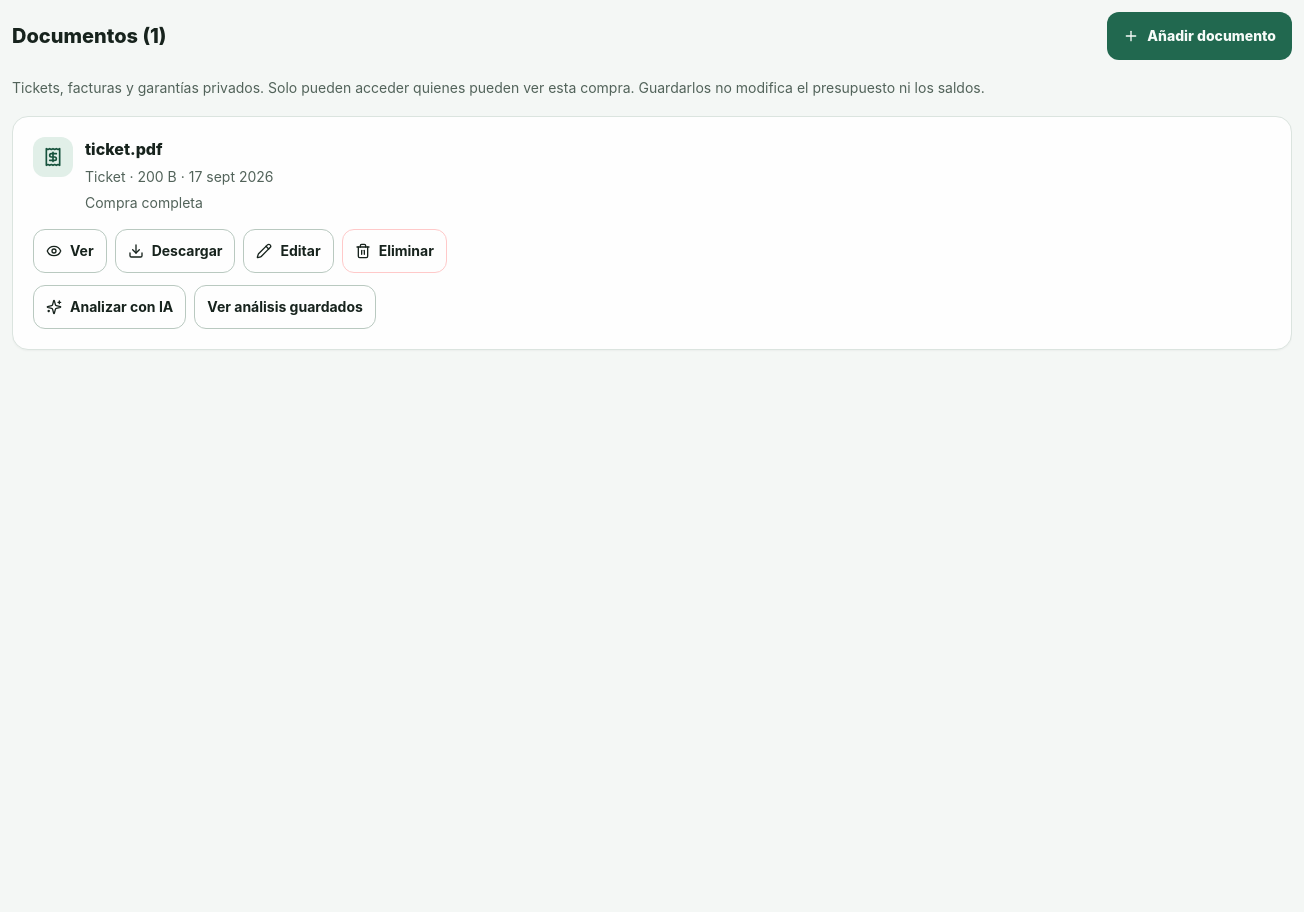
Scenario: PurchaseDocumentAnalysisPanel › shows safe actionable analysis errors without raw provider detail or automatic retries: {"code":"AI_NOT_CONFIGURED"}
The image size is (1304, 912).
Click the button with aria-label "Analizar con IA ticket.pdf".
click(110, 307)  # box [33, 285, 186, 329]
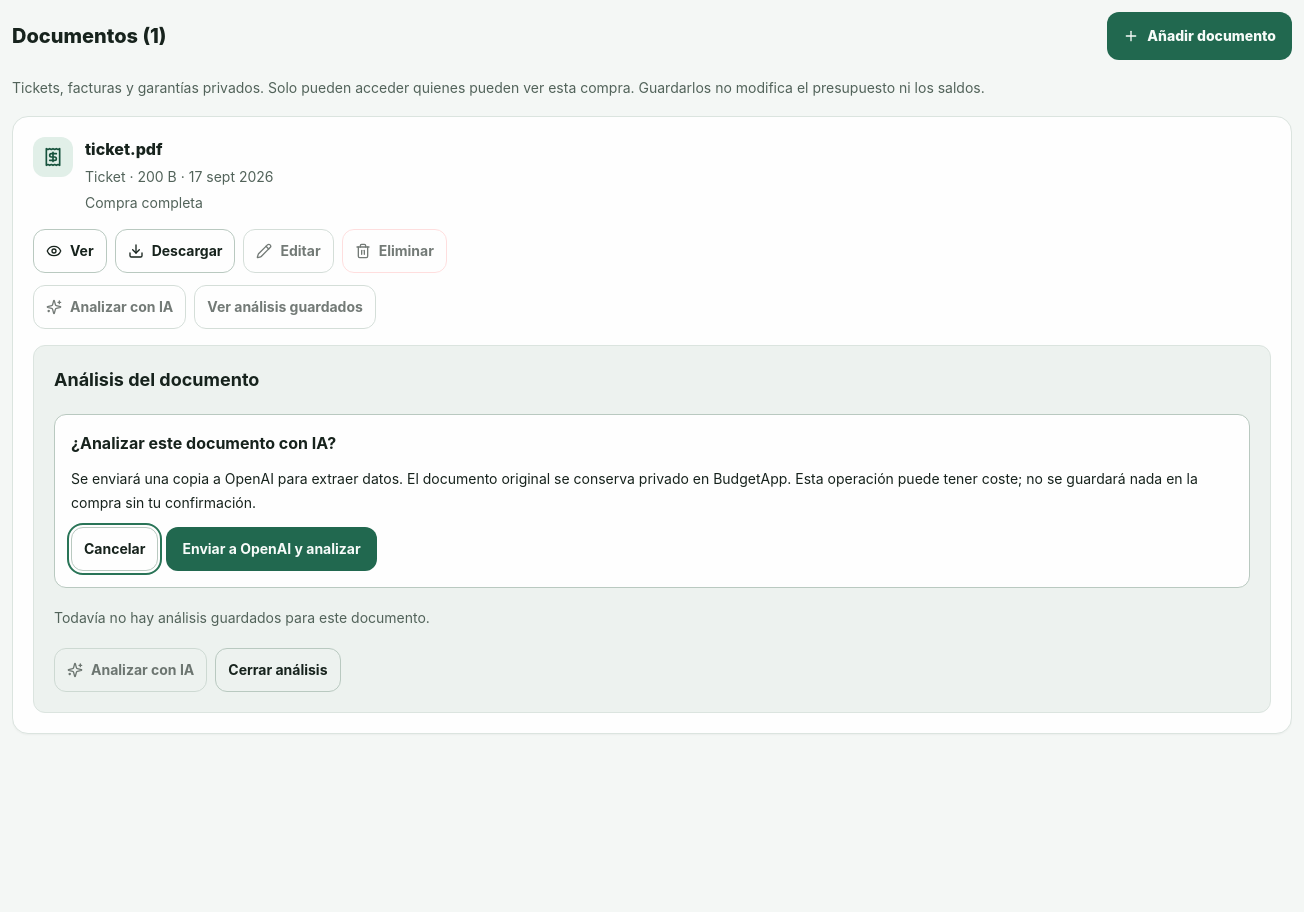
Click the button "Enviar a OpenAI y analizar".
click(272, 549)  # box [166, 527, 377, 571]
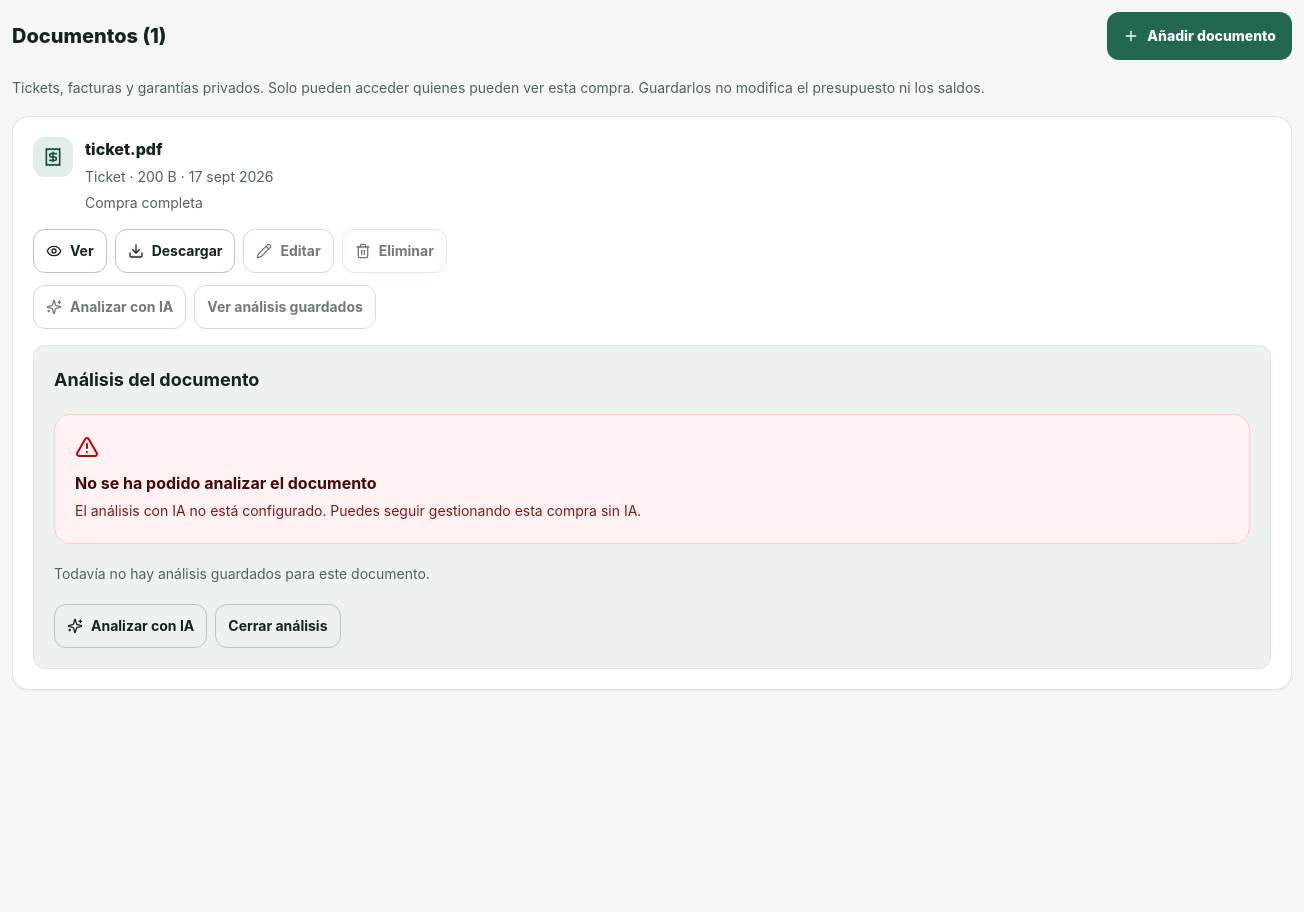
Check: the message shows "El análisis con IA no está configurado", box [75, 502, 641, 519]
